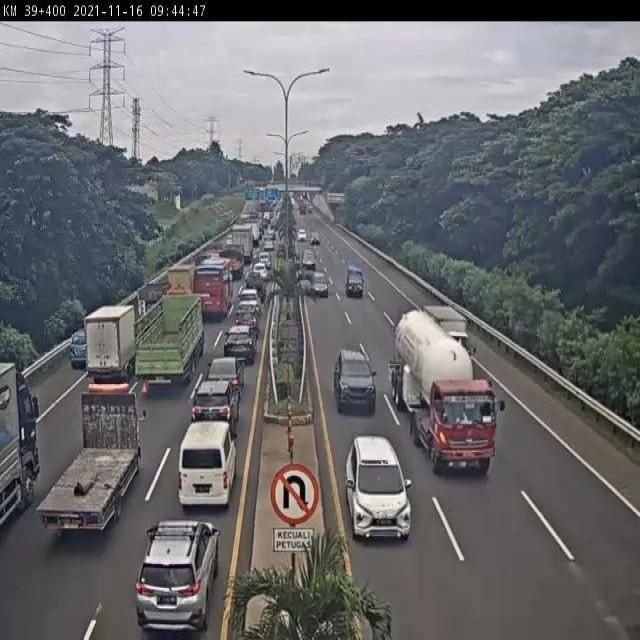car: (136, 517, 222, 636), (344, 438, 414, 546), (188, 383, 236, 447), (332, 346, 379, 410), (205, 355, 246, 396), (223, 327, 255, 365), (67, 328, 96, 364), (232, 308, 259, 335), (236, 288, 261, 316)
truck: (388, 306, 500, 474), (40, 385, 148, 540), (133, 294, 207, 394), (174, 426, 234, 510), (85, 303, 138, 387), (422, 303, 473, 368), (193, 257, 233, 320), (130, 280, 168, 320), (163, 263, 196, 309)
